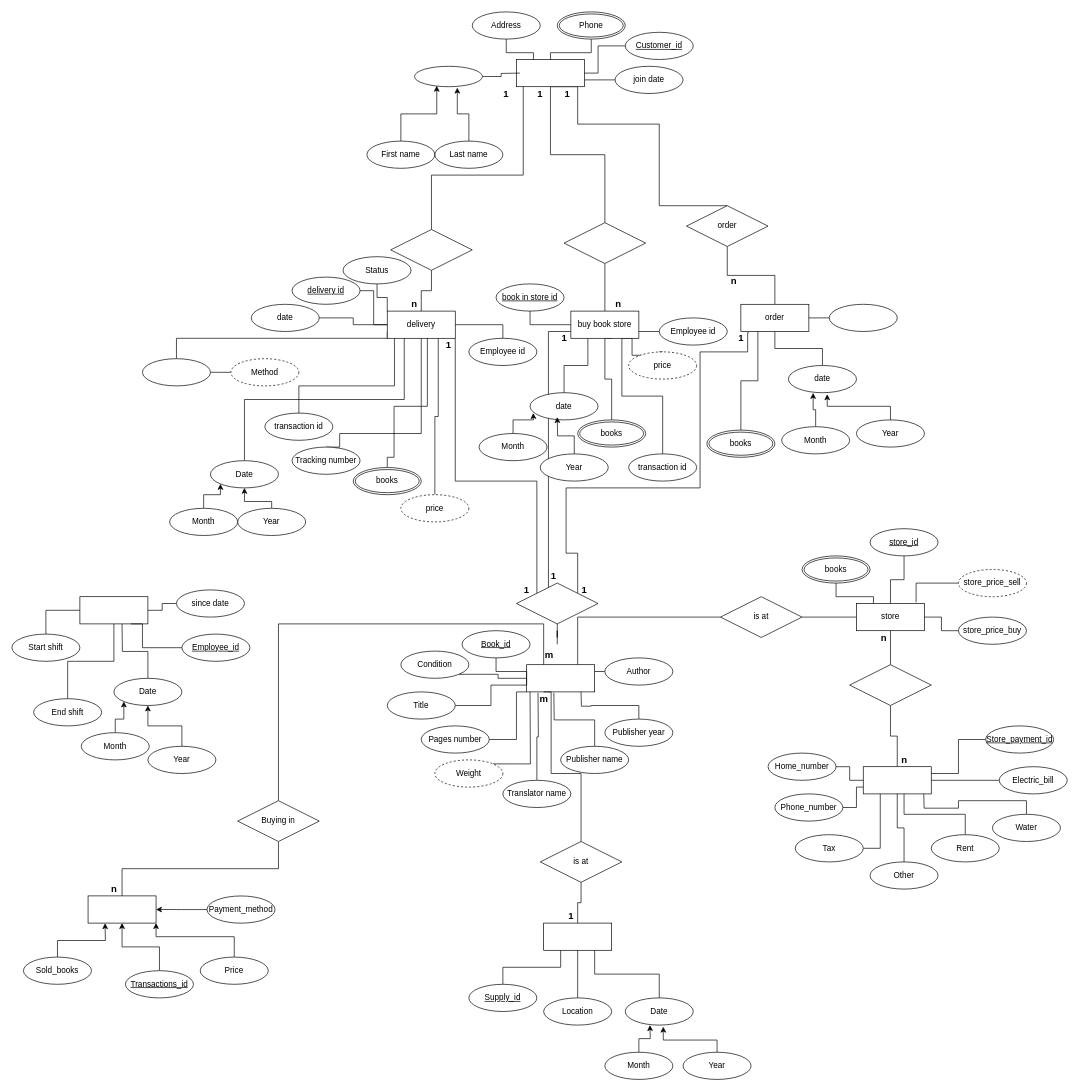
This 1079x1091 diagram has some shape labels left out. Each missing label, with the box of its shape:
book: (526, 664, 595, 692)
buy: (563, 222, 646, 264)
Company: (142, 358, 210, 386)
Customer: (516, 59, 584, 87)
Employee: (79, 596, 148, 624)
Full name: (414, 66, 482, 87)
have a: (849, 664, 931, 706)
include: (516, 582, 598, 624)
make: (390, 229, 472, 270)
order id: (829, 304, 897, 332)
Store payment: (863, 766, 931, 794)
Supply: (543, 922, 612, 950)
Transactions: (87, 895, 156, 923)
